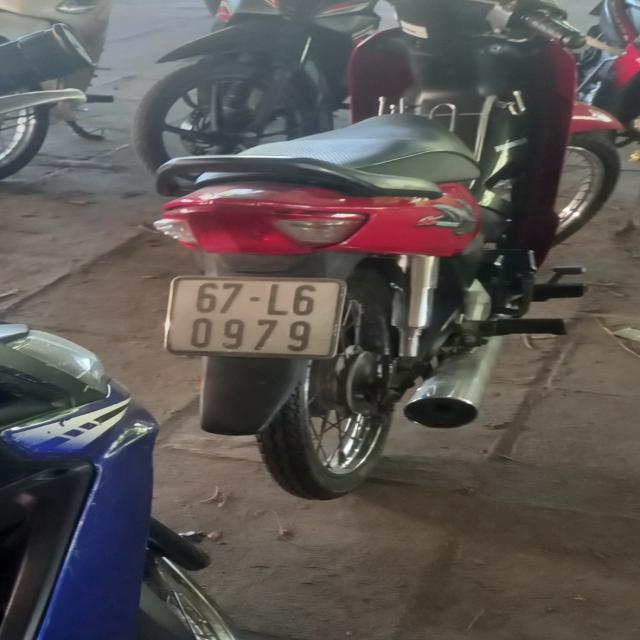0: (189, 316, 211, 349)
6: (292, 284, 316, 316), (198, 282, 219, 312)
7: (286, 320, 312, 353), (254, 319, 278, 351), (221, 282, 242, 314)
9: (222, 319, 244, 349)
L: (265, 284, 289, 316)
